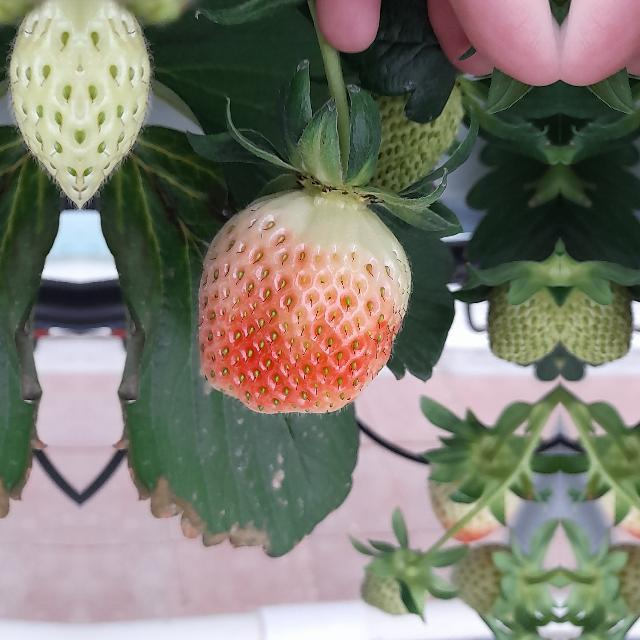Health_25: (352, 70, 460, 196), (481, 274, 559, 370), (561, 274, 639, 370)
Health_75: (198, 188, 410, 414)
